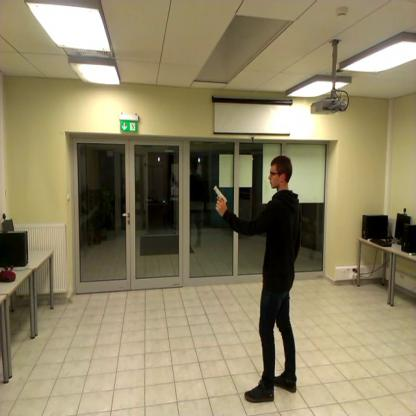Pistol: (210, 183, 231, 221)
